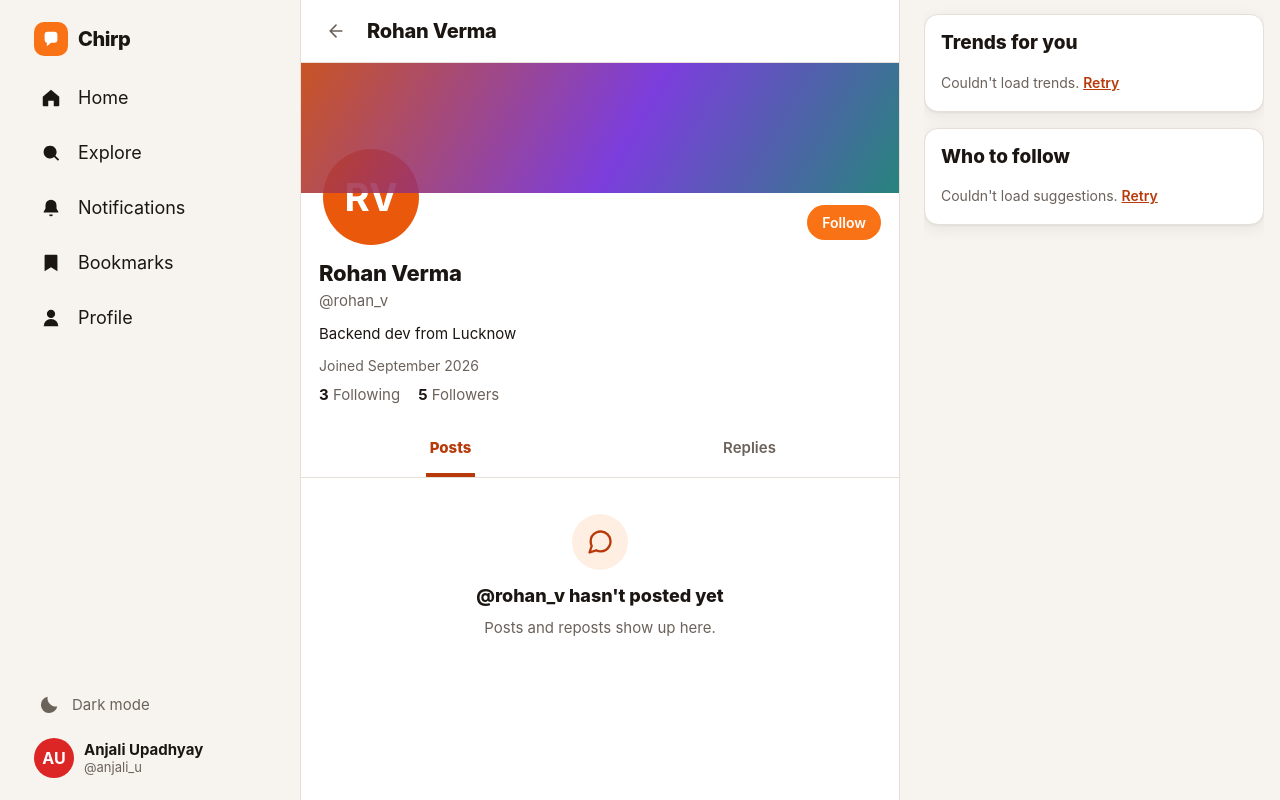
follow / unfollow › rolls back and shows an error toast if the request fails
Click the button with aria-label "Follow @rohan_v": point(844, 222) [807, 205, 881, 240]
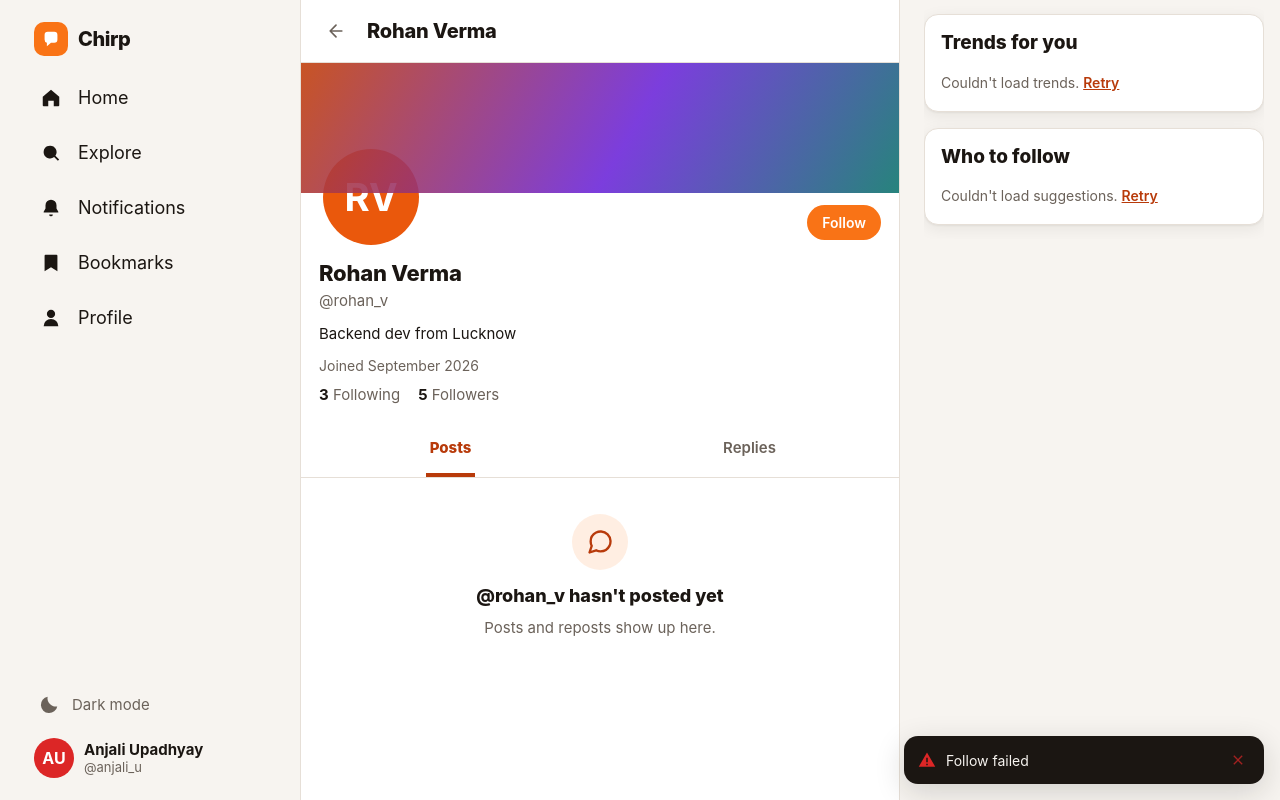
Expected: the link "5 Followers" is shown, [418, 384, 499, 406]
Now the text "Follow failed" is shown, box [946, 752, 1029, 768]
